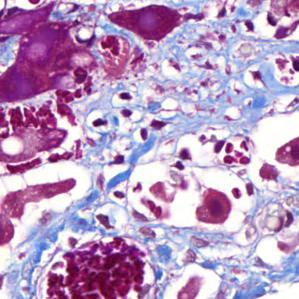steatosis: (0, 135, 27, 156)
